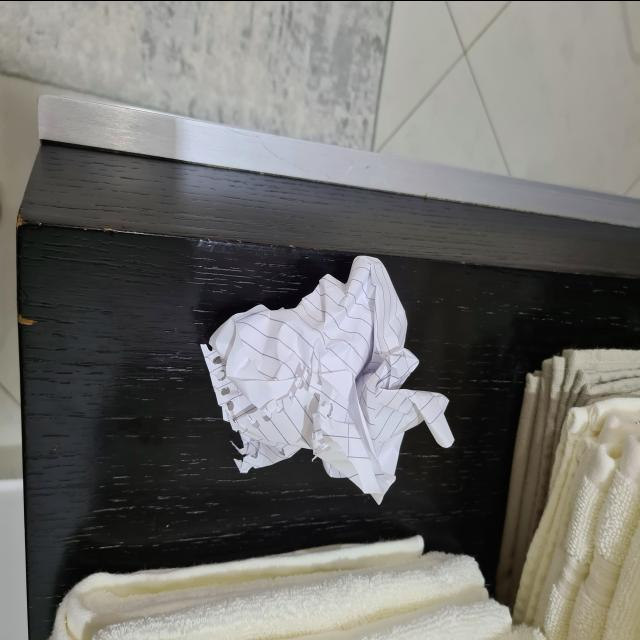Paper: (166, 214, 464, 501)
